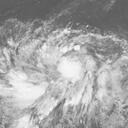cyclone: (47, 48, 97, 97)
